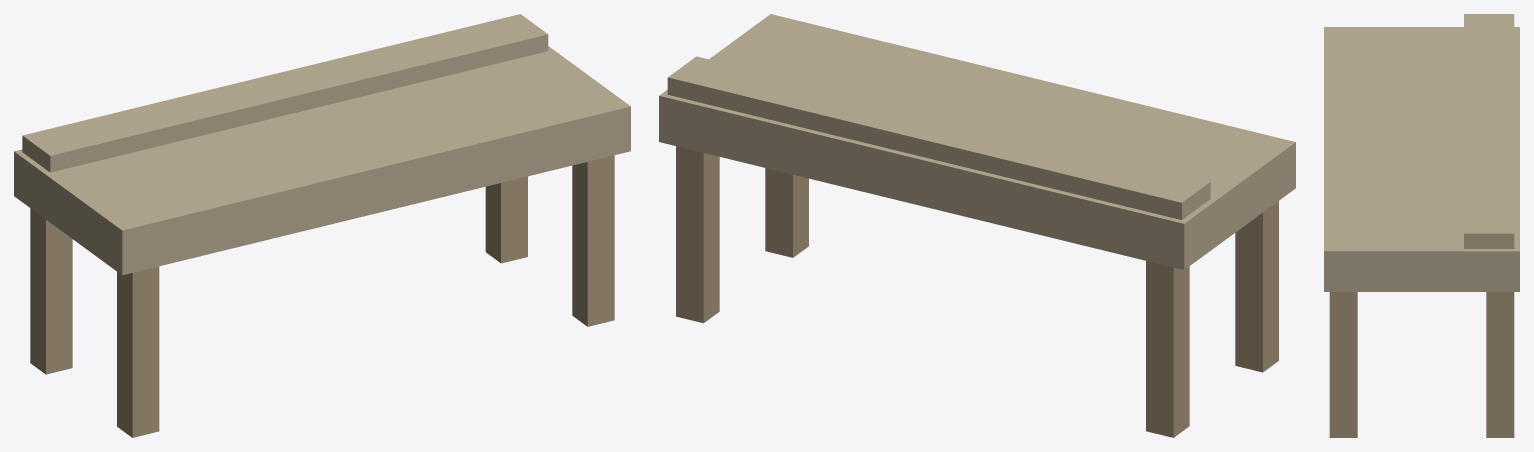
Rendered from trench-line-1917-trench-bench-8f005c5e__24064.glb.
The picture shows the model from 3 angles, left to right: view 1: azimuth 30°, elevation 25°; view 2: azimuth 150°, elevation 25°; view 3: azimuth 270°, elevation 25°; orthographic projection. The views are drawn at different scales.
Visible parts, largest first — view 1: trench-bench; view 2: trench-bench; view 3: trench-bench.
Part boxes in pixels (x1=…): trench-bench: x1=14, y1=14, x2=630, y2=437; trench-bench: x1=659, y1=14, x2=1295, y2=437; trench-bench: x1=1324, y1=14, x2=1519, y2=437.
Bounding box in the file's own units: 1.9 × 0.8199 × 0.7001.
